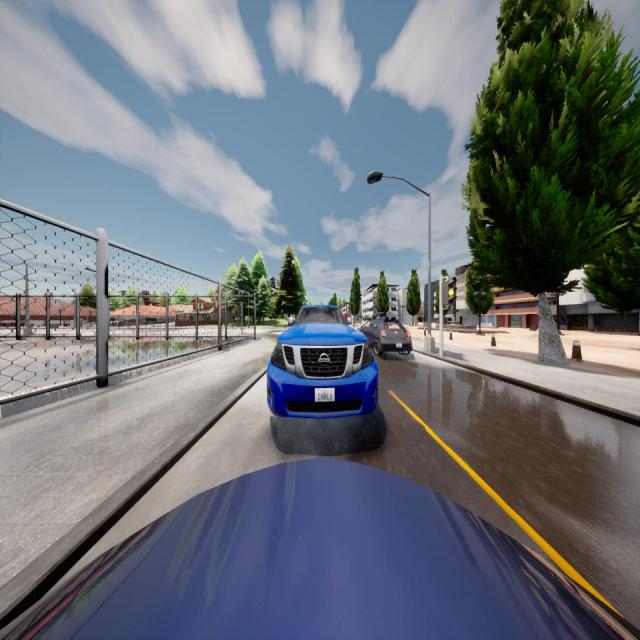Vehicle: (1, 460, 640, 639), (266, 306, 378, 418), (362, 316, 414, 356)
traffic_light: (443, 278, 456, 304), (238, 304, 242, 316)
